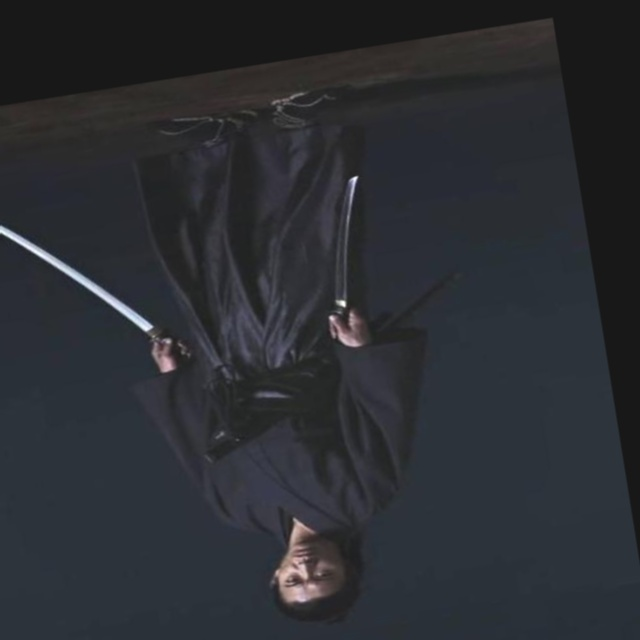Sharp-Object: (0, 150, 205, 383)
